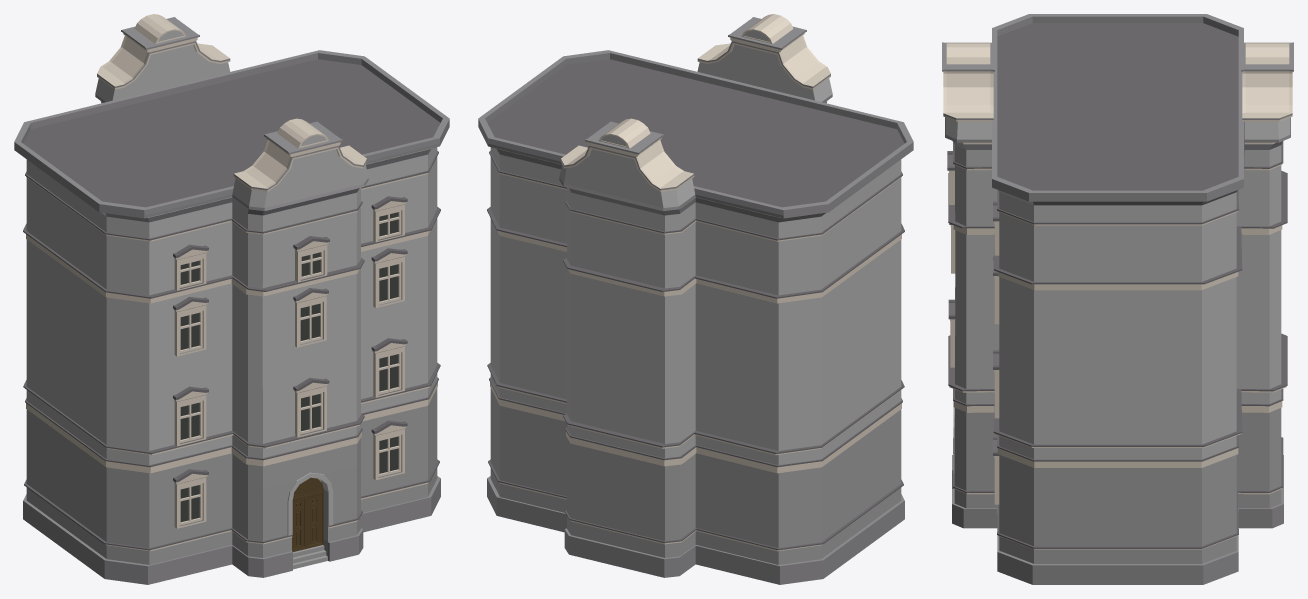
File: quaternius-buildings-building-4.glb
3 views of the same model, side by side, from view 1: azimuth 30°, elevation 25°; view 2: azimuth 150°, elevation 25°; view 3: azimuth 270°, elevation 25° (orthographic). The views are drawn at different scales.
Visible parts, largest first — view 1: Building4; view 2: Building4; view 3: Building4.
Boxes of the visible parts, x1,y1,x2,y2 form: Building4: (14,14,449,584); Building4: (478,14,913,584); Building4: (942,14,1293,584).
Bounding box in the file's own units: 4.64 × 5.49 × 3.86.
Materials: 1 (1 with a texture image).
